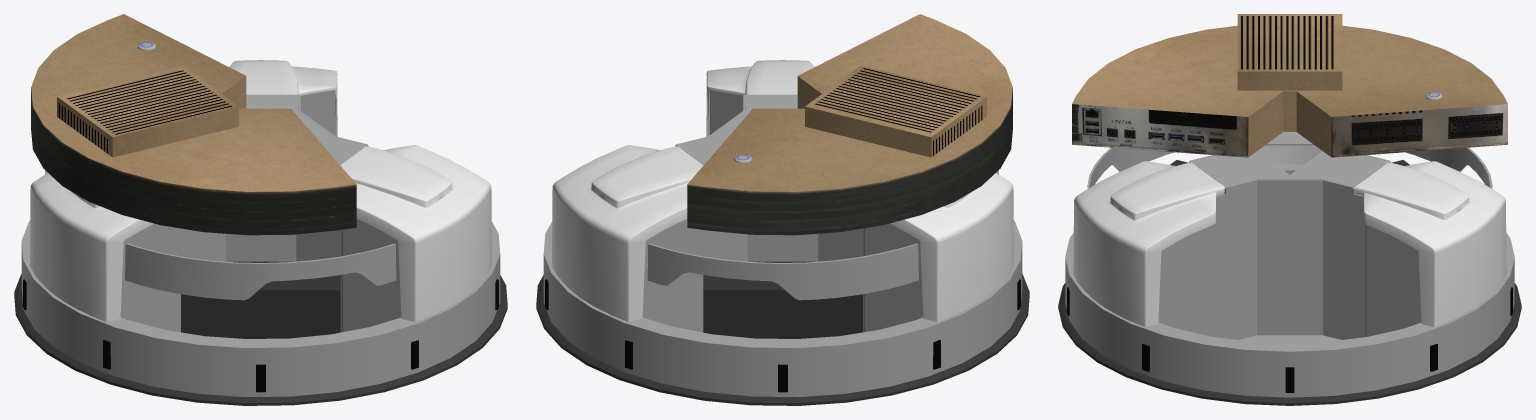
Rendered from Base_ROBOTINO_B.dae.
The picture shows the model from 3 angles, left to right: view 1: azimuth 30°, elevation 25°; view 2: azimuth 150°, elevation 25°; view 3: azimuth 270°, elevation 25°; orthographic projection. The views are drawn at different scales.
Parts seen in each view (by area): view 1: Base_ROBOTINO_B; view 2: Base_ROBOTINO_B; view 3: Base_ROBOTINO_B.
Boxes of the visible parts, x1,y1,x2,y2 form: Base_ROBOTINO_B: (14,14,507,405); Base_ROBOTINO_B: (536,14,1029,405); Base_ROBOTINO_B: (1058,14,1521,405).
Bounding box in the file's own units: 0.4648 × 0.4648 × 0.2385.
Materials: 6 (1 with a texture image).
